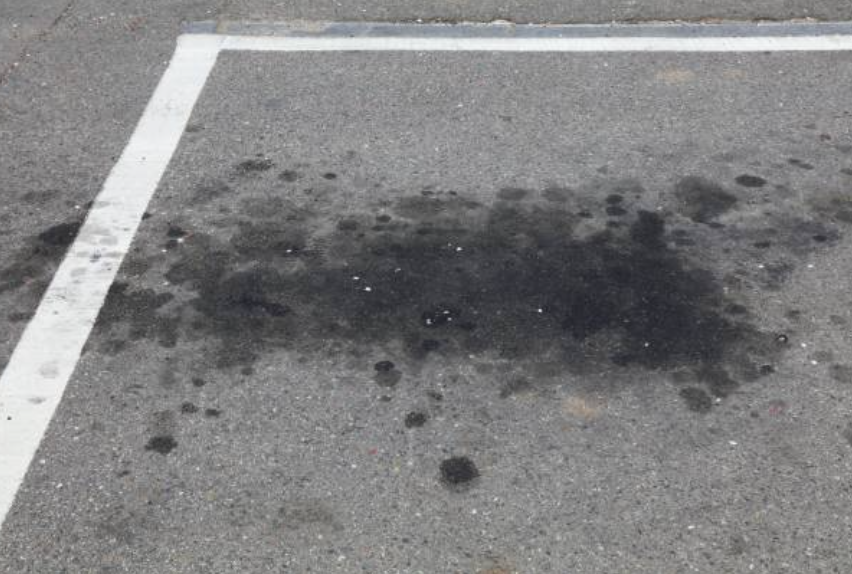oil: (3, 83, 421, 227), (220, 227, 238, 247)
